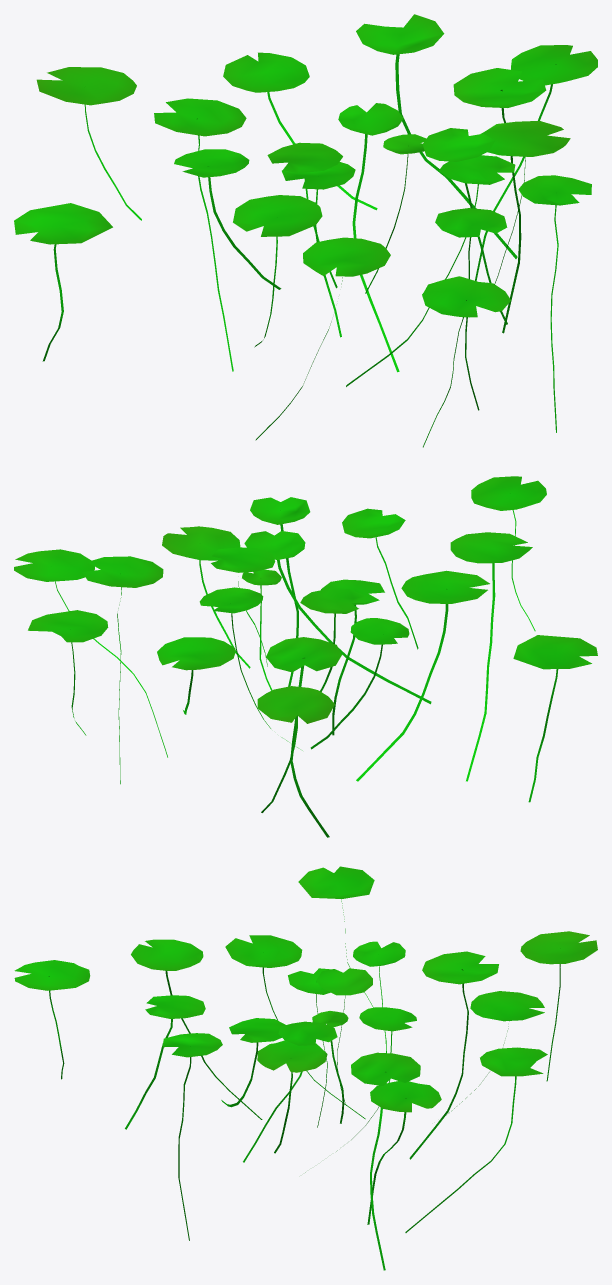
The model's file is SM_Fleur04_eau.fbx.
3 renders of one model, top to bottom at view 1: azimuth 30°, elevation 25°; view 2: azimuth 150°, elevation 25°; view 3: azimuth 270°, elevation 25°, orthographic. The views are drawn at different scales.
Visible parts, largest first — view 1: _b1af_Var4_LOD1; view 2: _b1af_Var4_LOD1; view 3: _b1af_Var4_LOD1.
Boxes of the visible parts, <box> form: _b1af_Var4_LOD1: <box>14,14,597,447</box>; _b1af_Var4_LOD1: <box>14,476,597,837</box>; _b1af_Var4_LOD1: <box>14,866,597,1270</box>.
Size of the model in its own units: 186 by 71.2 by 186.
